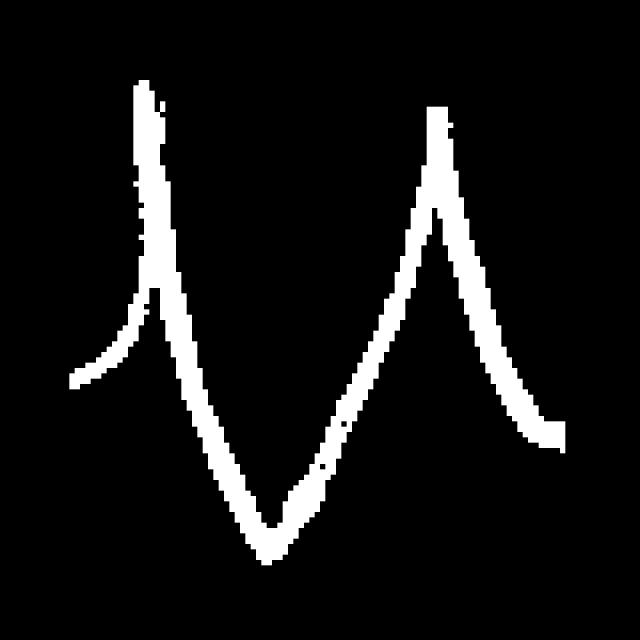resistor: (105, 67, 525, 574)
